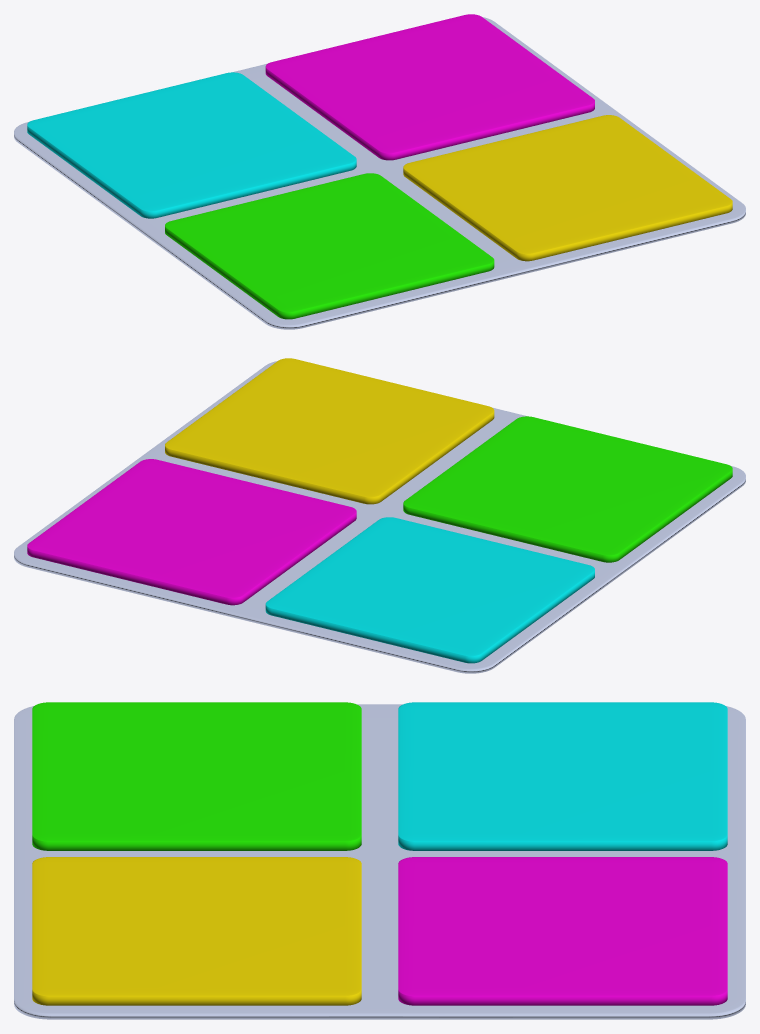
Rendered from For4Ground.fbx.
The picture shows the model from 3 angles, top to bottom: view 1: azimuth 30°, elevation 25°; view 2: azimuth 150°, elevation 25°; view 3: azimuth 270°, elevation 25°; orthographic projection. The views are drawn at different scales.
Visible parts, largest first — view 1: First, Fourth, Second, Third, Floor; view 2: Fourth, First, Third, Second, Floor; view 3: First, Second, Third, Fourth, Floor.
Boxes of the visible parts, x1,y1,x2,y2 form: First: (165,173,494,319); Fourth: (27,72,356,218); Second: (403,115,732,261); Third: (265,14,594,160); Floor: (14,17,745,329); Fourth: (265,517,594,663); First: (403,416,732,562); Third: (27,459,356,605); Second: (165,358,494,504); Floor: (14,361,745,673); First: (32,702,361,850); Second: (32,857,361,1005); Third: (398,857,727,1005); Fourth: (398,702,727,850); Floor: (14,704,745,1019).
Size of the model in its own units: 200 by 5 by 200.
